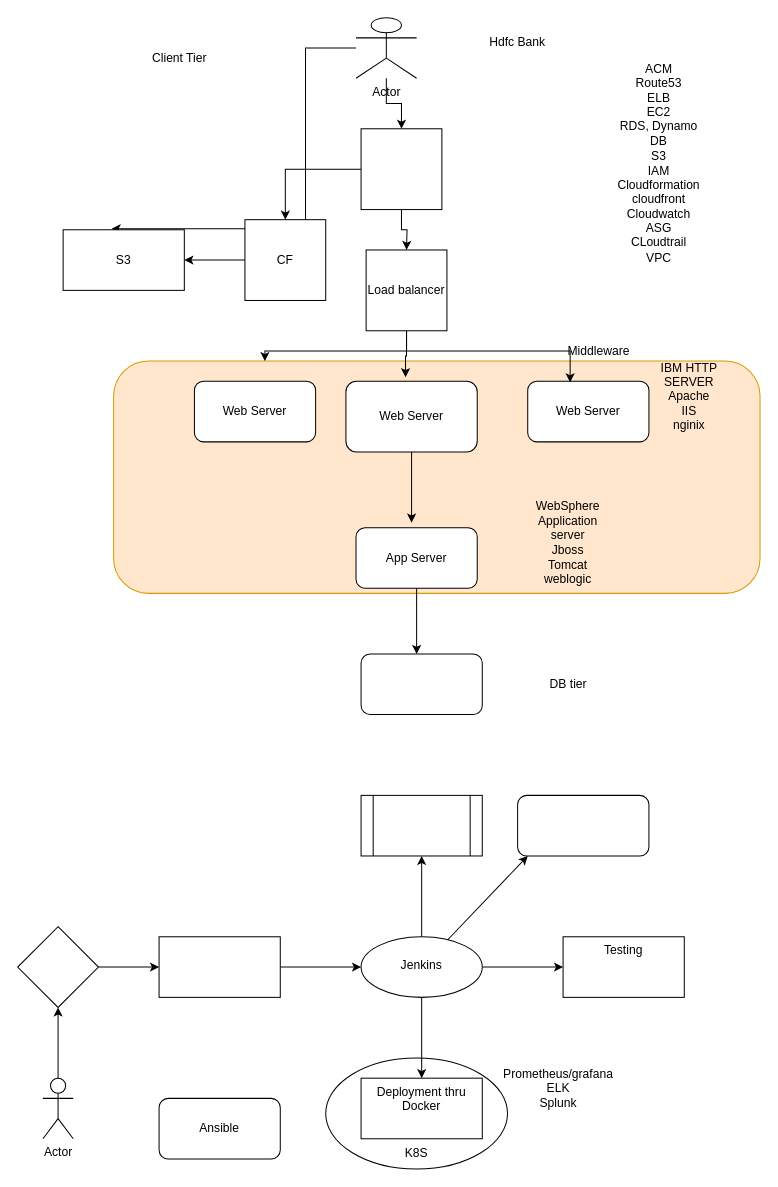
Some shapes in this 778 by 1187 pixel diagram are drawn without their labels. The shapes that lost their labels are listed below. From the top down, each one's box as (x1, y1, x2, y2) in pixels, then its label:
(360, 128, 442, 210): IP via DNS
(360, 653, 482, 715): DB
(360, 794, 482, 856): Maven Grade ant
(517, 794, 649, 856): Nexus JFROG
(17, 926, 98, 1007): GIT
(158, 936, 280, 997): GITHUB/BITBUCKET
